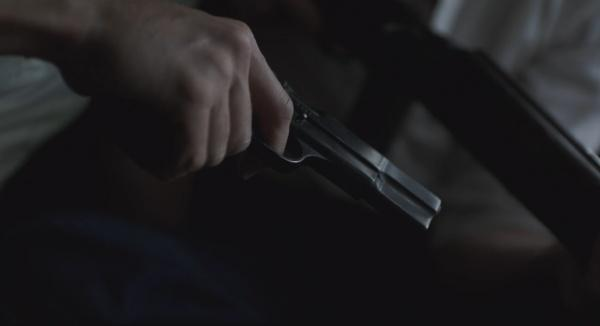Gun: (249, 74, 443, 239)
